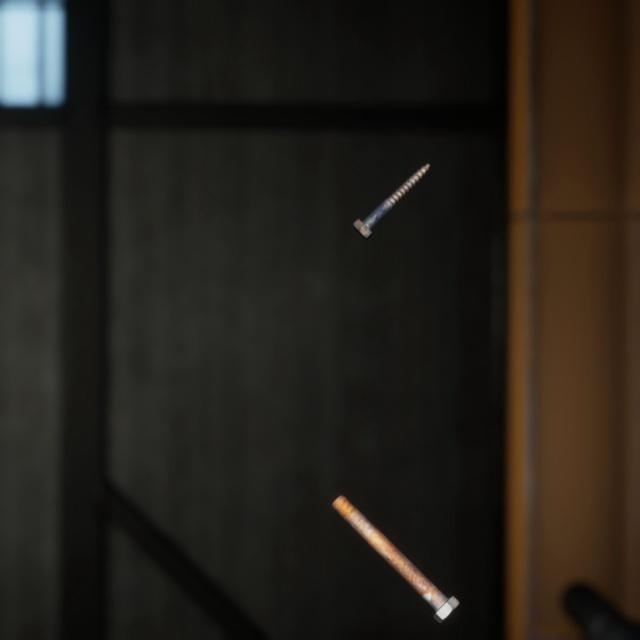bolt: (327, 469, 464, 605), (348, 145, 435, 230)
